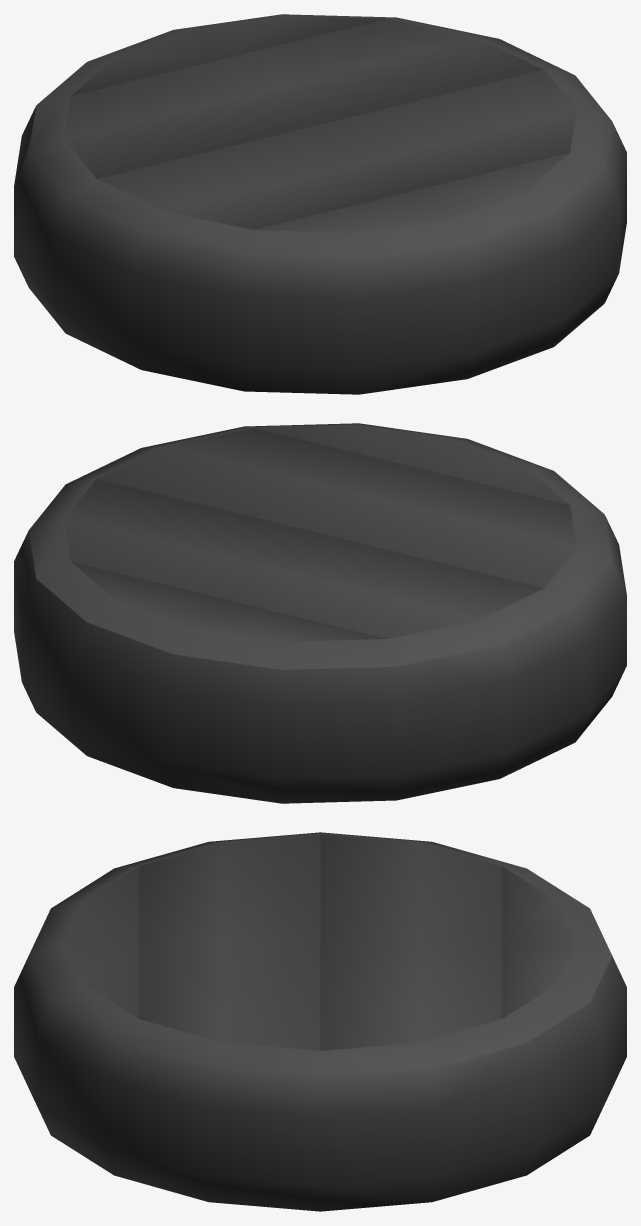
The model's file is Burnt Burger.glb.
The picture shows the model from 3 angles, top to bottom: view 1: azimuth 30°, elevation 25°; view 2: azimuth 150°, elevation 25°; view 3: azimuth 270°, elevation 25°; orthographic projection.
Visible parts, largest first — view 1: food_ingredient_burger_trash; view 2: food_ingredient_burger_trash; view 3: food_ingredient_burger_trash.
Part boxes in pixels (<box>): food_ingredient_burger_trash: <box>14,14,626,394</box>; food_ingredient_burger_trash: <box>14,423,626,803</box>; food_ingredient_burger_trash: <box>14,832,626,1211</box>.
Bounding box in the file's own units: 0.7 × 0.2 × 0.7.
Materials: 1 (1 with a texture image).
